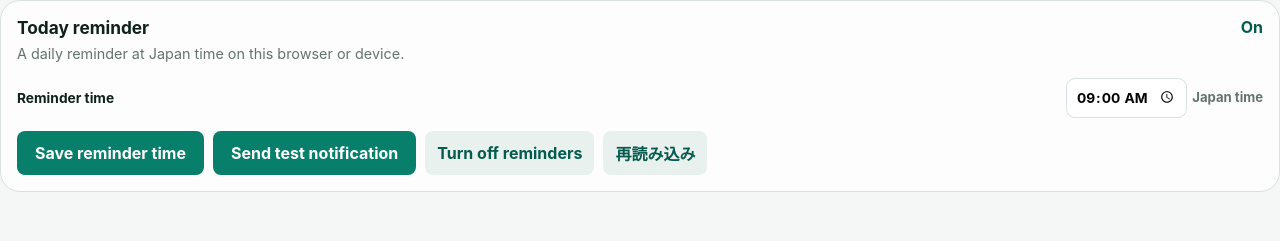
Test: NotificationSettings › updates an enabled time without requesting permission again
The width and height of the screenshot is (1280, 241).
expect the text "On" is shown: met, box x1=1241 y1=17 x2=1263 y2=37
Replace the text in the time field labelled "Reminder time" with "17:45". click: (1127, 98)
box: x1=1066 y1=78 x2=1187 y2=118
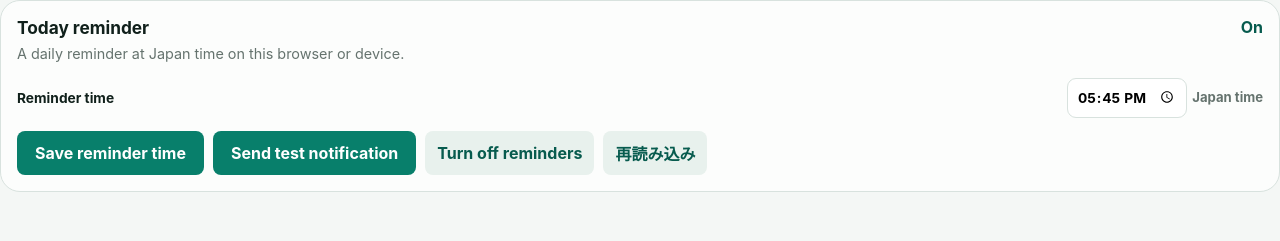
Click the button "Save reminder time". click: (110, 153)
box: x1=17 y1=131 x2=204 y2=175
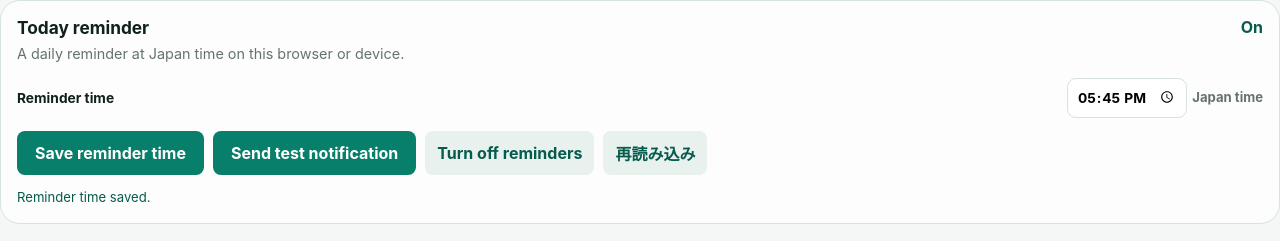
expect the text "Reminder time saved." is shown: met, box x1=17 y1=189 x2=150 y2=205
